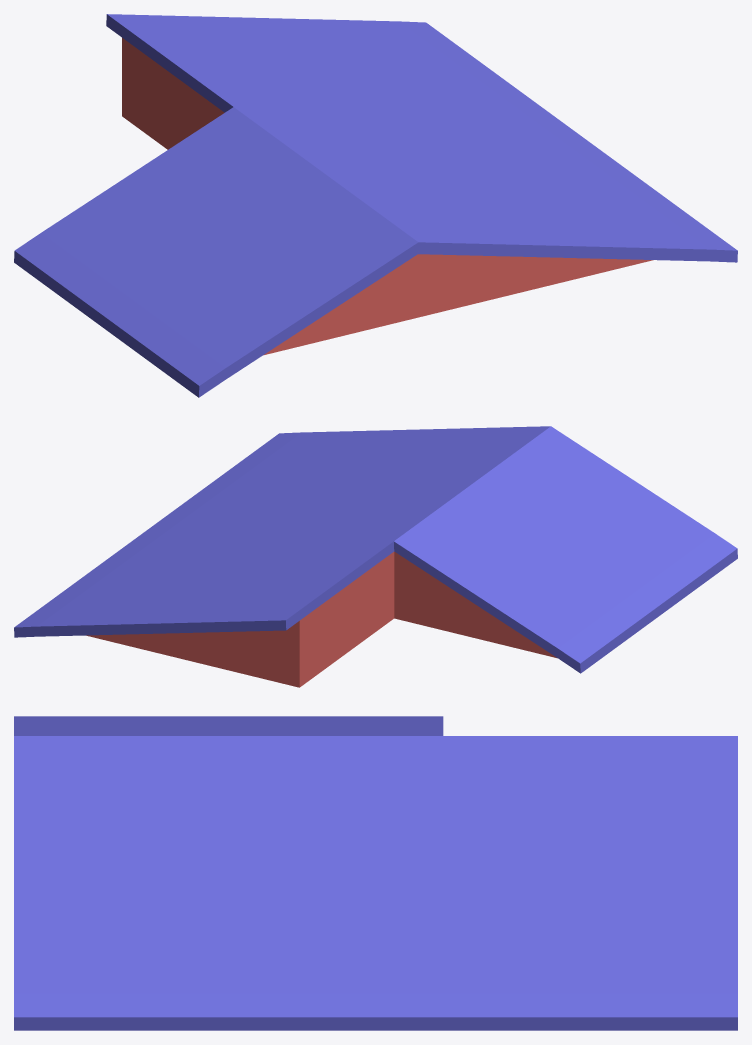
File: storeExternal.fbx
The picture shows the model from 3 angles, top to bottom: view 1: azimuth 30°, elevation 25°; view 2: azimuth 150°, elevation 25°; view 3: azimuth 270°, elevation 25°; orthographic projection. The views are drawn at different scales.
Visible parts, largest first — view 1: Plane; view 2: Plane; view 3: Plane.
Boxes of the visible parts, x1,y1,x2,y2 form: Plane: (14,14,737,397); Plane: (14,426,737,687); Plane: (14,716,737,1030).
Bounding box in the file's own units: 1024 × 185 × 1025.
